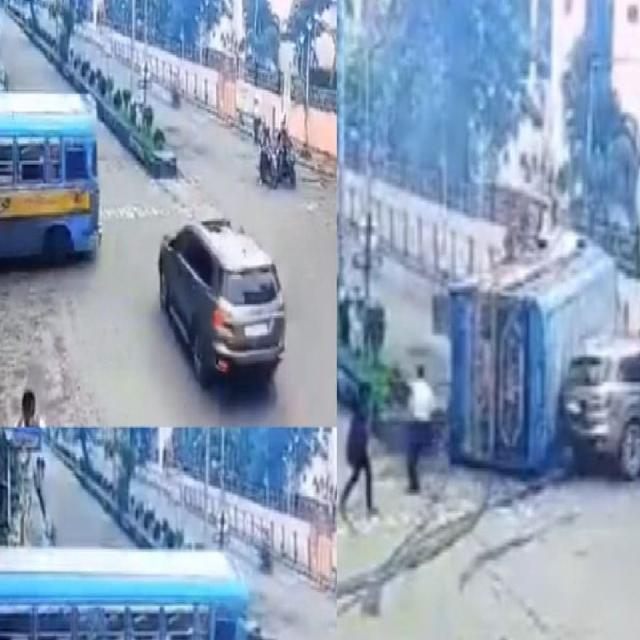accident: (449, 231, 617, 471)
bus: (0, 548, 249, 640), (0, 74, 102, 273)
car: (157, 220, 289, 393), (561, 336, 640, 480)
